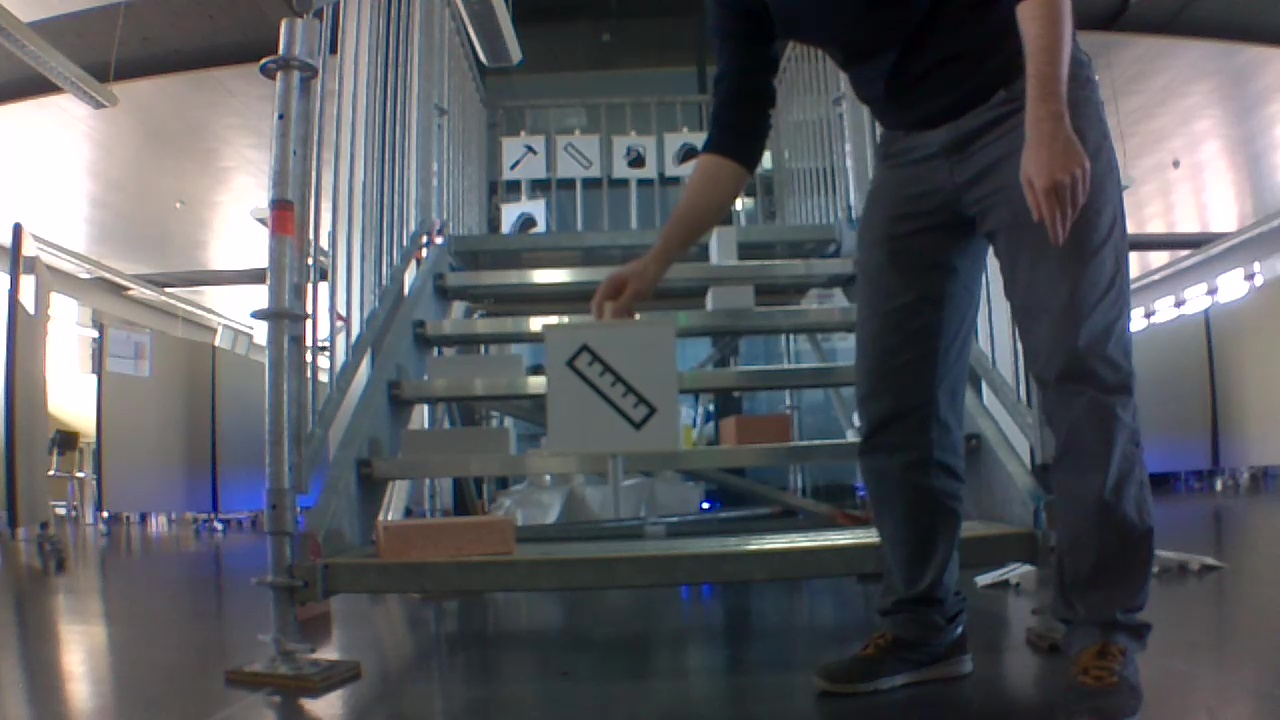brick: (377, 511, 523, 555), (397, 423, 518, 457), (425, 350, 527, 382), (722, 413, 794, 444), (708, 224, 741, 264), (705, 283, 751, 309)
bucket: (620, 141, 646, 172)
hammer: (512, 143, 542, 173)
ruler: (567, 336, 661, 433), (564, 141, 595, 170)
taco: (506, 208, 537, 240), (676, 139, 700, 165)
